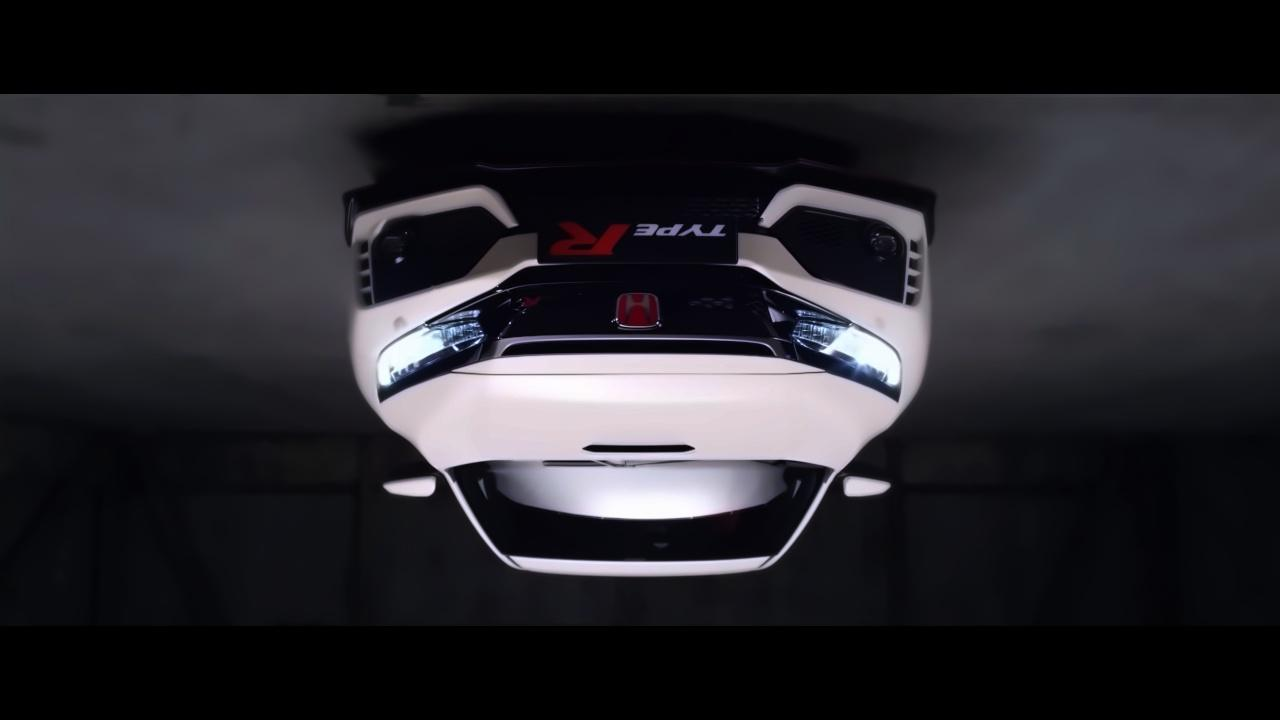Car hood: (376, 352, 904, 472)
Front bumper: (326, 162, 940, 372)
Headlight - -L-: (372, 307, 500, 410)
Headlight - -R-: (769, 286, 903, 407)
Side mirror - -L-: (375, 466, 445, 503)
Side mirror - -R-: (823, 471, 897, 507)
